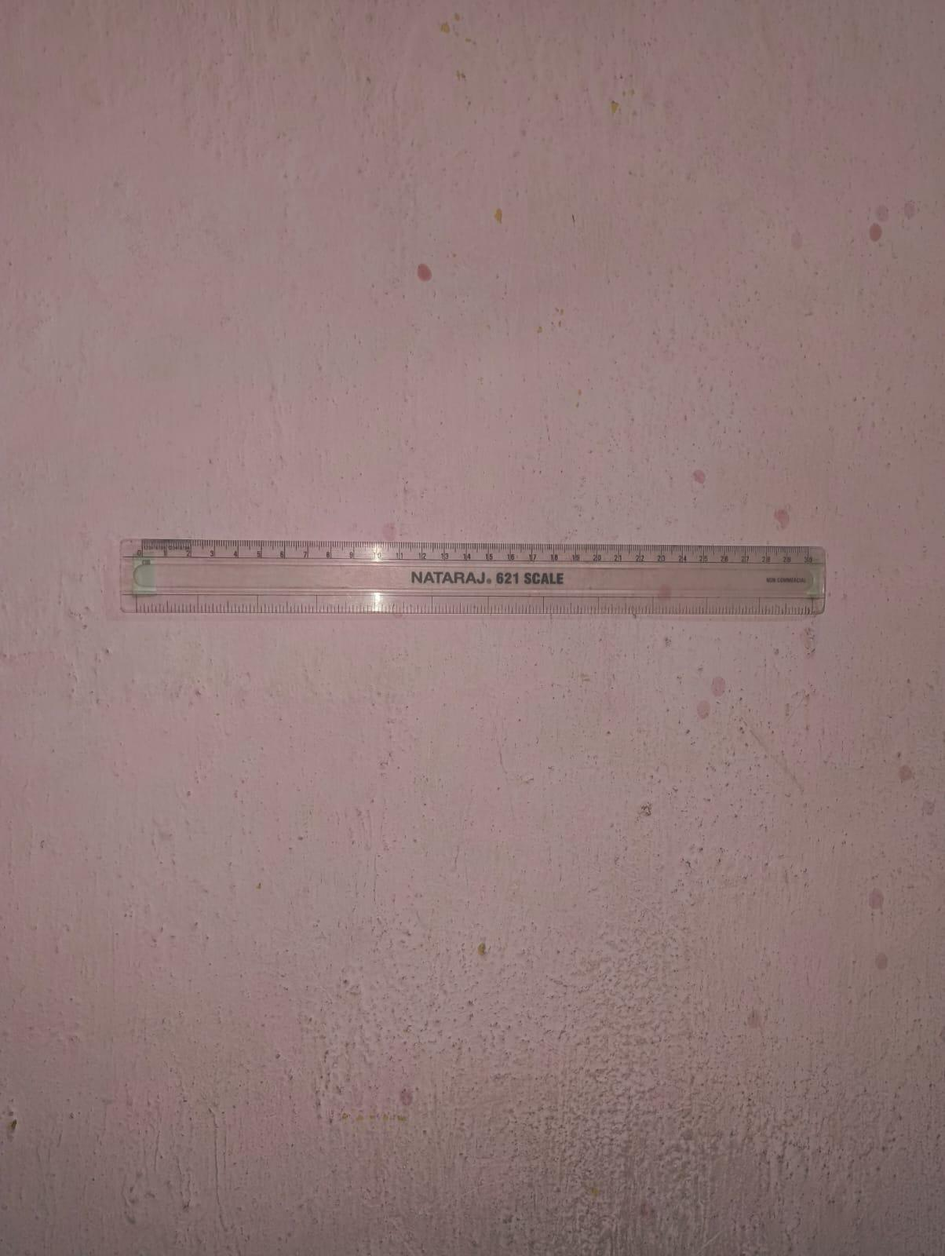scale: (128, 547, 823, 618)
